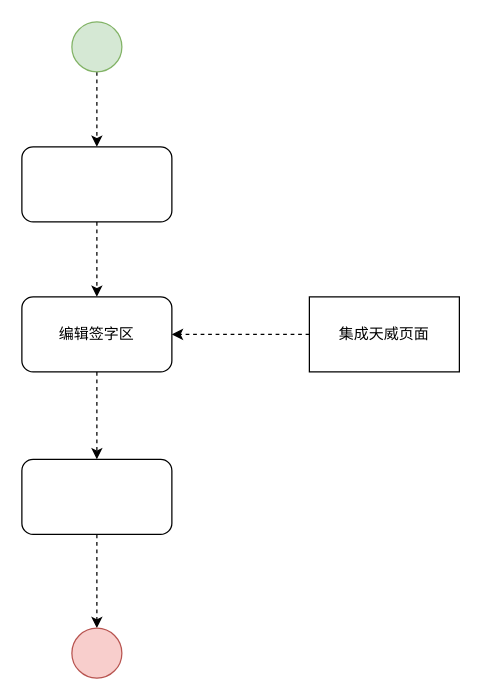
Some shapes in this 481 by 700 pixel diagram are drawn without their labels. Each missing label, with the centre of its shape:
"留存模板id信息（天威返回）" belongs at pixel 96 496.
"管理后台上传pdf扫描件" belongs at pixel 96 184.
